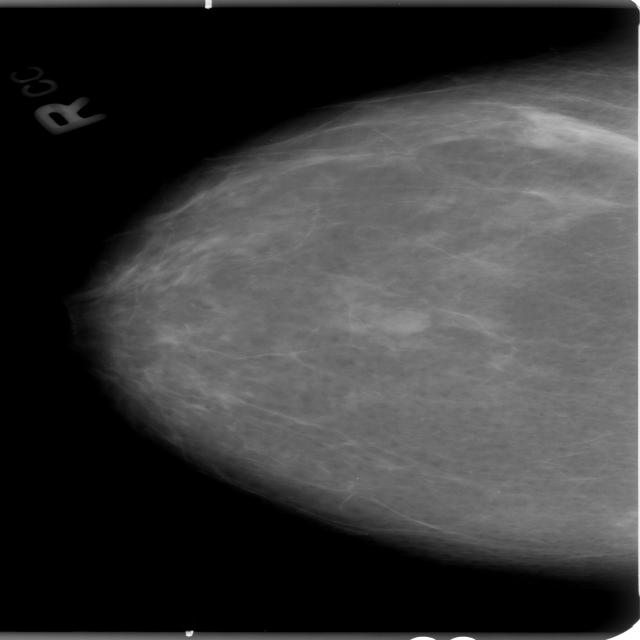normal: (44, 30, 640, 570)
